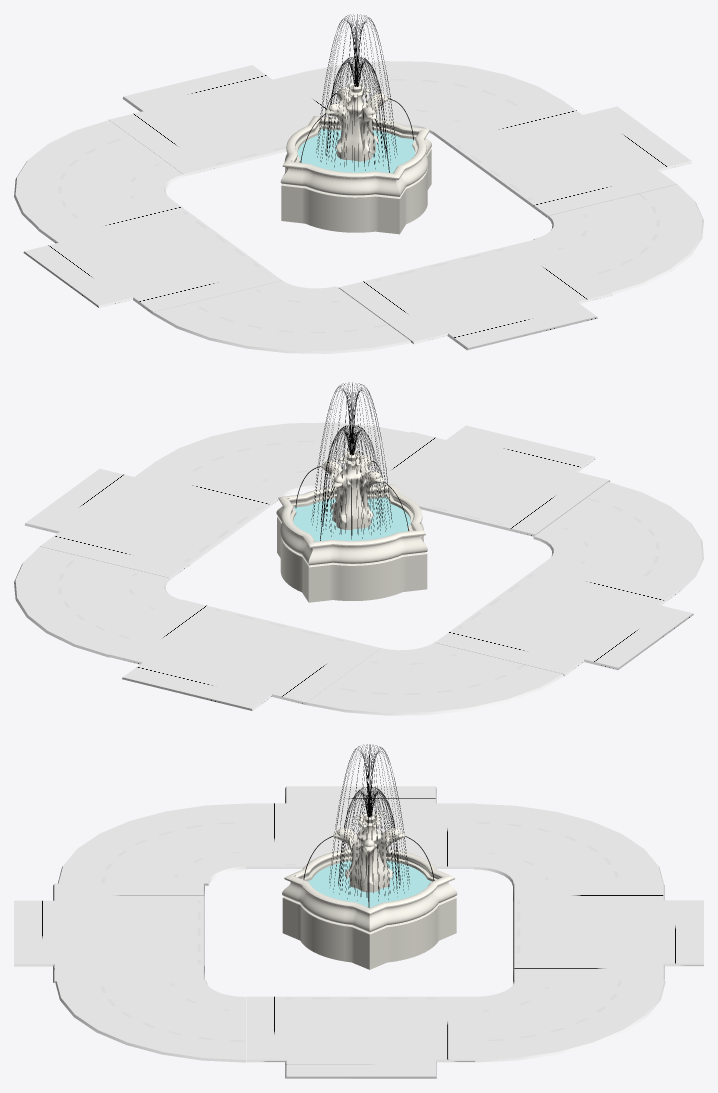
File: Round9.FBX
The picture shows the model from 3 angles, top to bottom: view 1: azimuth 30°, elevation 25°; view 2: azimuth 150°, elevation 25°; view 3: azimuth 270°, elevation 25°; orthographic projection.
Visible parts, largest first — view 1: bibeko-50-bocht-klein001, bibeko-50-bocht-klein002, bibeko-50-bocht-klein, Loft01, bibeko-50-bocht-klein003, bibeko-50-kruispunt002, bibeko-50-kruispunt006, bibeko-50-kruispunt004, bibeko-50-kruispunt001, bibeko-50-kruispunt007, bibeko-50-kruispunt005, bibeko-50-kruispunt003 (+4 smaller); view 2: bibeko-50-bocht-klein, bibeko-50-bocht-klein003, bibeko-50-bocht-klein001, Loft01, bibeko-50-bocht-klein002, bibeko-50-kruispunt002, bibeko-50-kruispunt004, bibeko-50-kruispunt001, bibeko-50-kruispunt006, bibeko-50-kruispunt, bibeko-50-kruispunt005, bibeko-50-kruispunt003 (+4 smaller); view 3: Loft01, bibeko-50-bocht-klein003, bibeko-50-bocht-klein002, bibeko-50-bocht-klein001, bibeko-50-bocht-klein, bibeko-50-kruispunt001, bibeko-50-kruispunt006, bibeko-50-kruispunt002, bibeko-50-kruispunt003, bibeko-50-kruispunt, bibeko-50-kruispunt007, bibeko-50-kruispunt005 (+4 smaller).
Part boxes in pixels (x1,y1,x2,y2): bibeko-50-bocht-klein001: (151, 280, 410, 353); bibeko-50-bocht-klein002: (533, 184, 703, 294); bibeko-50-bocht-klein: (14, 120, 184, 229); Loft01: (280, 116, 431, 234); bibeko-50-bocht-klein003: (305, 61, 561, 133); bibeko-50-kruispunt002: (452, 115, 656, 203); bibeko-50-kruispunt006: (374, 247, 576, 333); bibeko-50-kruispunt004: (59, 211, 261, 297); bibeko-50-kruispunt001: (144, 79, 321, 168); bibeko-50-kruispunt007: (338, 239, 612, 350); bibeko-50-kruispunt005: (23, 196, 281, 314); bibeko-50-kruispunt003: (432, 100, 692, 217); bibeko-50-bocht-klein: (306, 641, 563, 715); bibeko-50-bocht-klein003: (14, 546, 181, 657); bibeko-50-bocht-klein001: (533, 482, 703, 592); Loft01: (276, 484, 427, 602); bibeko-50-bocht-klein002: (155, 422, 409, 495); bibeko-50-kruispunt002: (60, 477, 264, 565); bibeko-50-kruispunt004: (455, 573, 657, 659); bibeko-50-kruispunt001: (143, 608, 345, 693); bibeko-50-kruispunt006: (385, 440, 574, 528); bibeko-50-kruispunt: (108, 599, 380, 710); bibeko-50-kruispunt005: (435, 558, 693, 676); bibeko-50-kruispunt003: (24, 462, 284, 579); Loft01: (282, 848, 457, 969); bibeko-50-bocht-klein003: (475, 979, 665, 1062); bibeko-50-bocht-klein002: (55, 980, 245, 1062); bibeko-50-bocht-klein001: (58, 803, 247, 885); bibeko-50-bocht-klein: (473, 804, 663, 885); bibeko-50-kruispunt001: (513, 900, 663, 965); bibeko-50-kruispunt006: (54, 900, 204, 965); bibeko-50-kruispunt002: (286, 996, 435, 1059); bibeko-50-kruispunt003: (246, 996, 475, 1078); bibeko-50-kruispunt: (513, 883, 703, 982); bibeko-50-kruispunt007: (14, 883, 204, 982); bibeko-50-kruispunt005: (246, 786, 475, 868).
Bounding box in the file's own units: 2989 × 891 × 3001.
